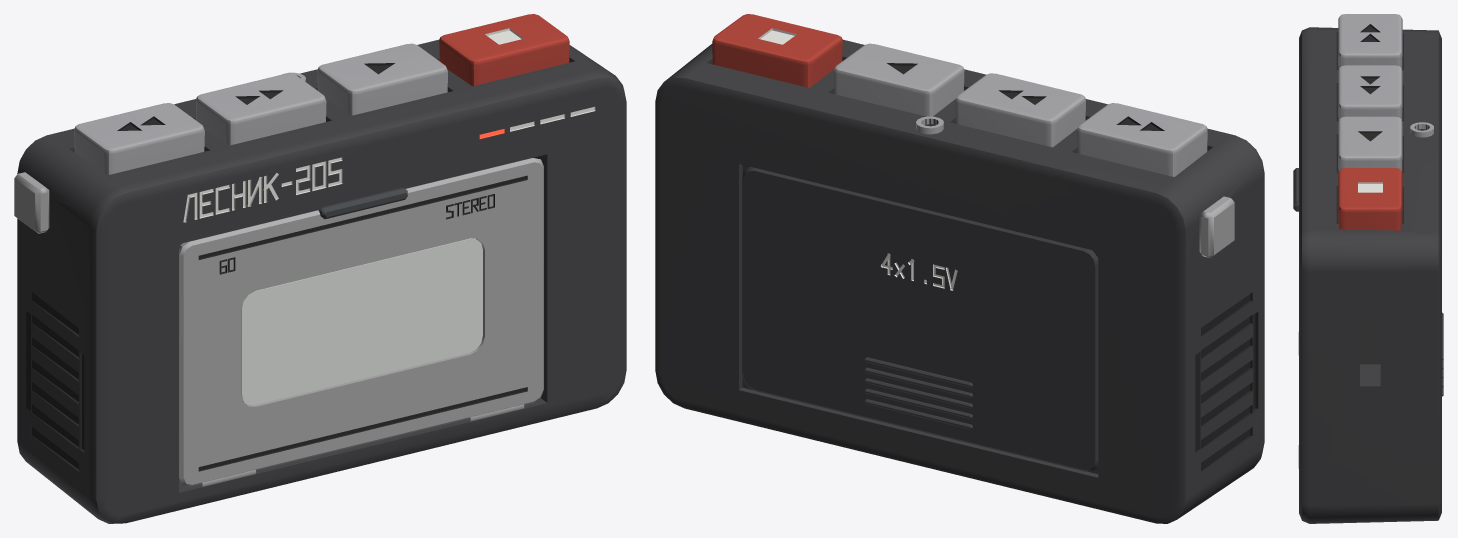
Rendered from cassette_player.glb.
3 views of the same model, side by side, from view 1: azimuth 30°, elevation 25°; view 2: azimuth 150°, elevation 25°; view 3: azimuth 270°, elevation 25° (orthographic). The views are drawn at different scales.
Visible parts, largest first — view 1: body, door, door_window, btn_rew, btn_stop, btn_ff, btn_play; view 2: body, cell_door, btn_rew, btn_stop, btn_ff, btn_play; view 3: body, btn_stop, btn_rew, btn_play, btn_ff, door.
Part boxes in pixels (bbox=[...]): body: bbox=[14, 39, 626, 523]; door: bbox=[179, 158, 543, 486]; door_window: bbox=[241, 238, 482, 404]; btn_rew: bbox=[74, 103, 204, 175]; btn_stop: bbox=[439, 14, 569, 86]; btn_ff: bbox=[196, 73, 326, 145]; btn_play: bbox=[317, 43, 447, 115]; body: bbox=[655, 39, 1264, 523]; cell_door: bbox=[742, 167, 1098, 471]; btn_rew: bbox=[1077, 103, 1207, 176]; btn_stop: bbox=[712, 14, 842, 87]; btn_ff: bbox=[955, 73, 1086, 147]; btn_play: bbox=[833, 43, 964, 116]; body: bbox=[1299, 27, 1441, 523]; btn_stop: bbox=[1338, 168, 1402, 230]; btn_rew: bbox=[1338, 14, 1402, 68]; btn_play: bbox=[1338, 116, 1402, 171]; btn_ff: bbox=[1338, 65, 1402, 120]; door: bbox=[1293, 168, 1298, 468].
Bounding box in the file's own units: 0.1535 × 0.0972 × 0.0421.
